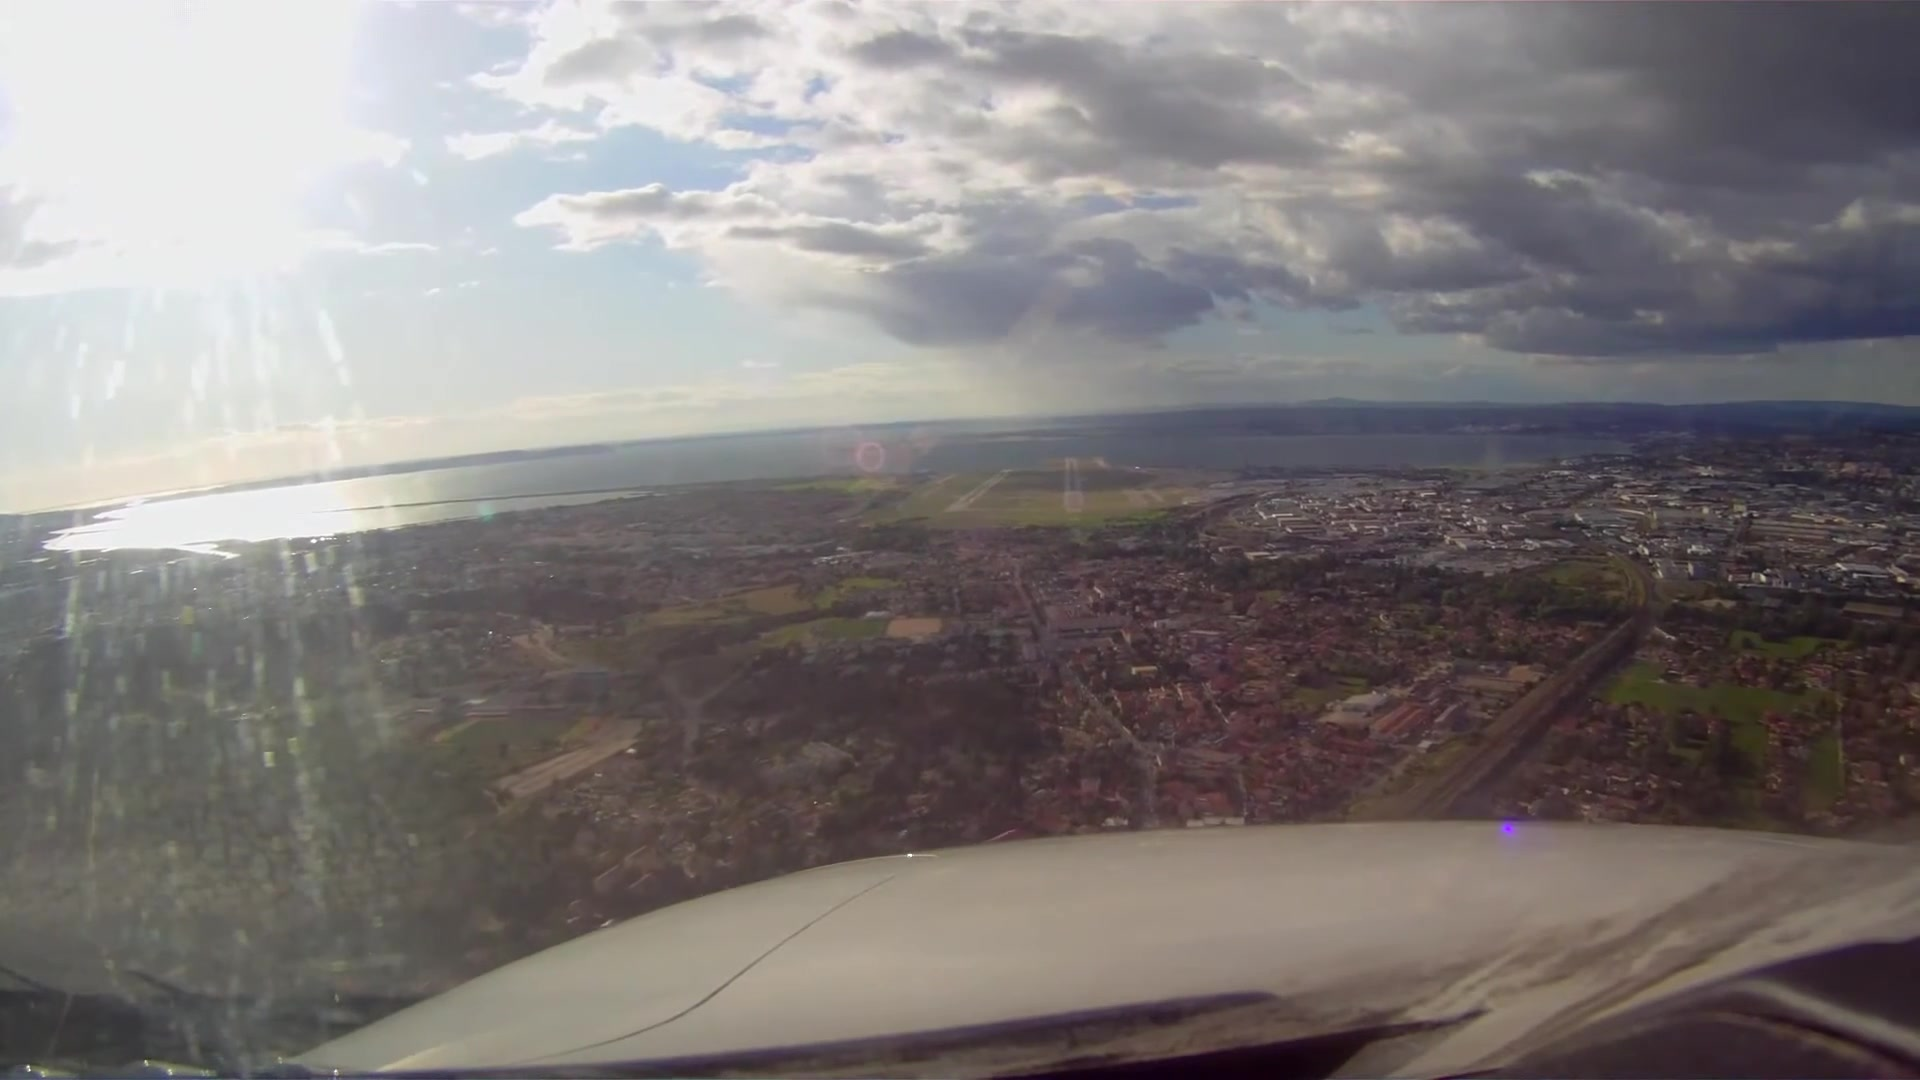runway: (943, 469, 1007, 512), (1062, 458, 1087, 514)
